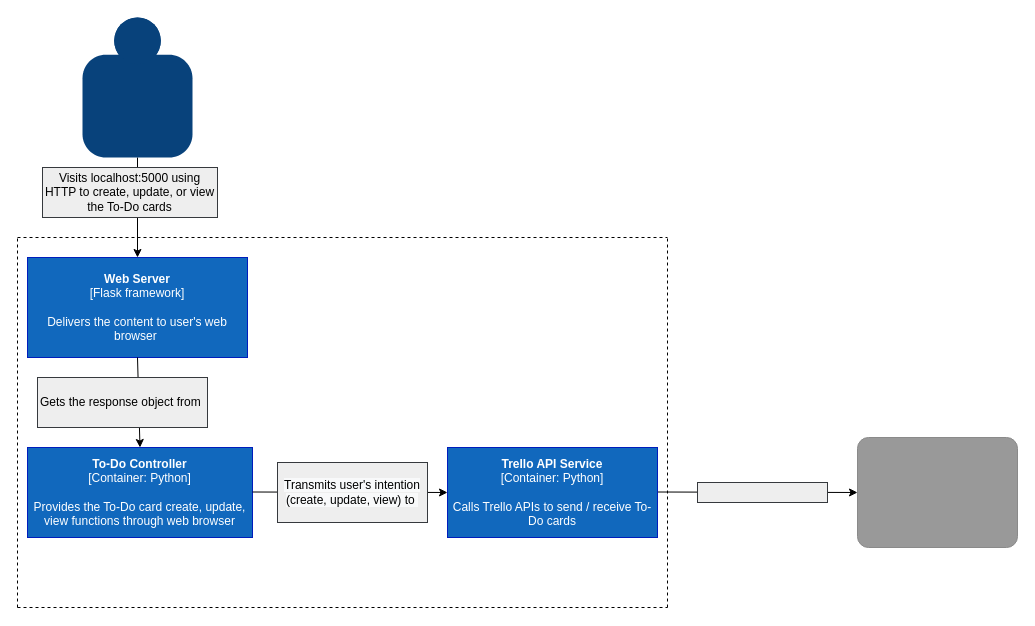
This 1035x626 diagram has some shape labels left out. Each missing label, with the centre of its shape:
Makes API calls to: the point at 762,492
To-Do App User [Person] User of the To-Do application: the point at 137,87
Trello [Software System] External system used as data store for To-Do cards: the point at 937,492
